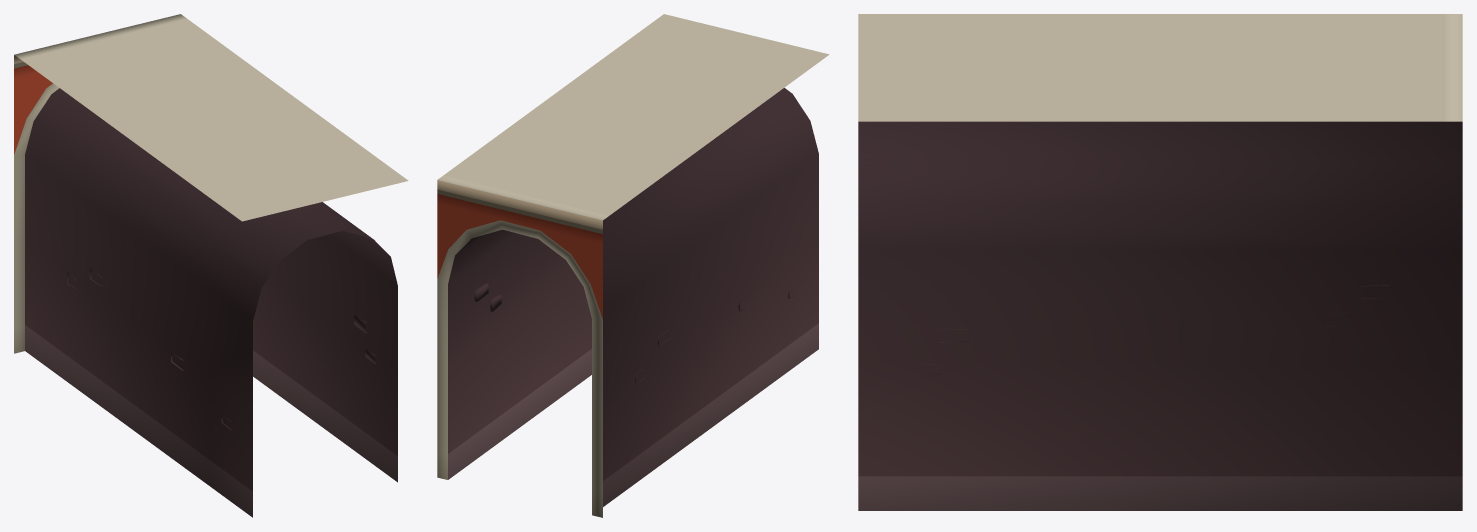
File: CityTunnel_05.fbx
3 renders of one model, left to right at view 1: azimuth 30°, elevation 25°; view 2: azimuth 150°, elevation 25°; view 3: azimuth 270°, elevation 25°, orthographic. The views are drawn at different scales.
Parts seen in each view (by area): view 1: CityTunnel_05; view 2: CityTunnel_05; view 3: CityTunnel_05.
Boxes of the visible parts, box(x1,y1,x2,y2) form: CityTunnel_05: box(14, 14, 408, 517); CityTunnel_05: box(437, 14, 829, 517); CityTunnel_05: box(858, 14, 1462, 510).
Bounding box in the file's own units: 419 × 719 × 994.
